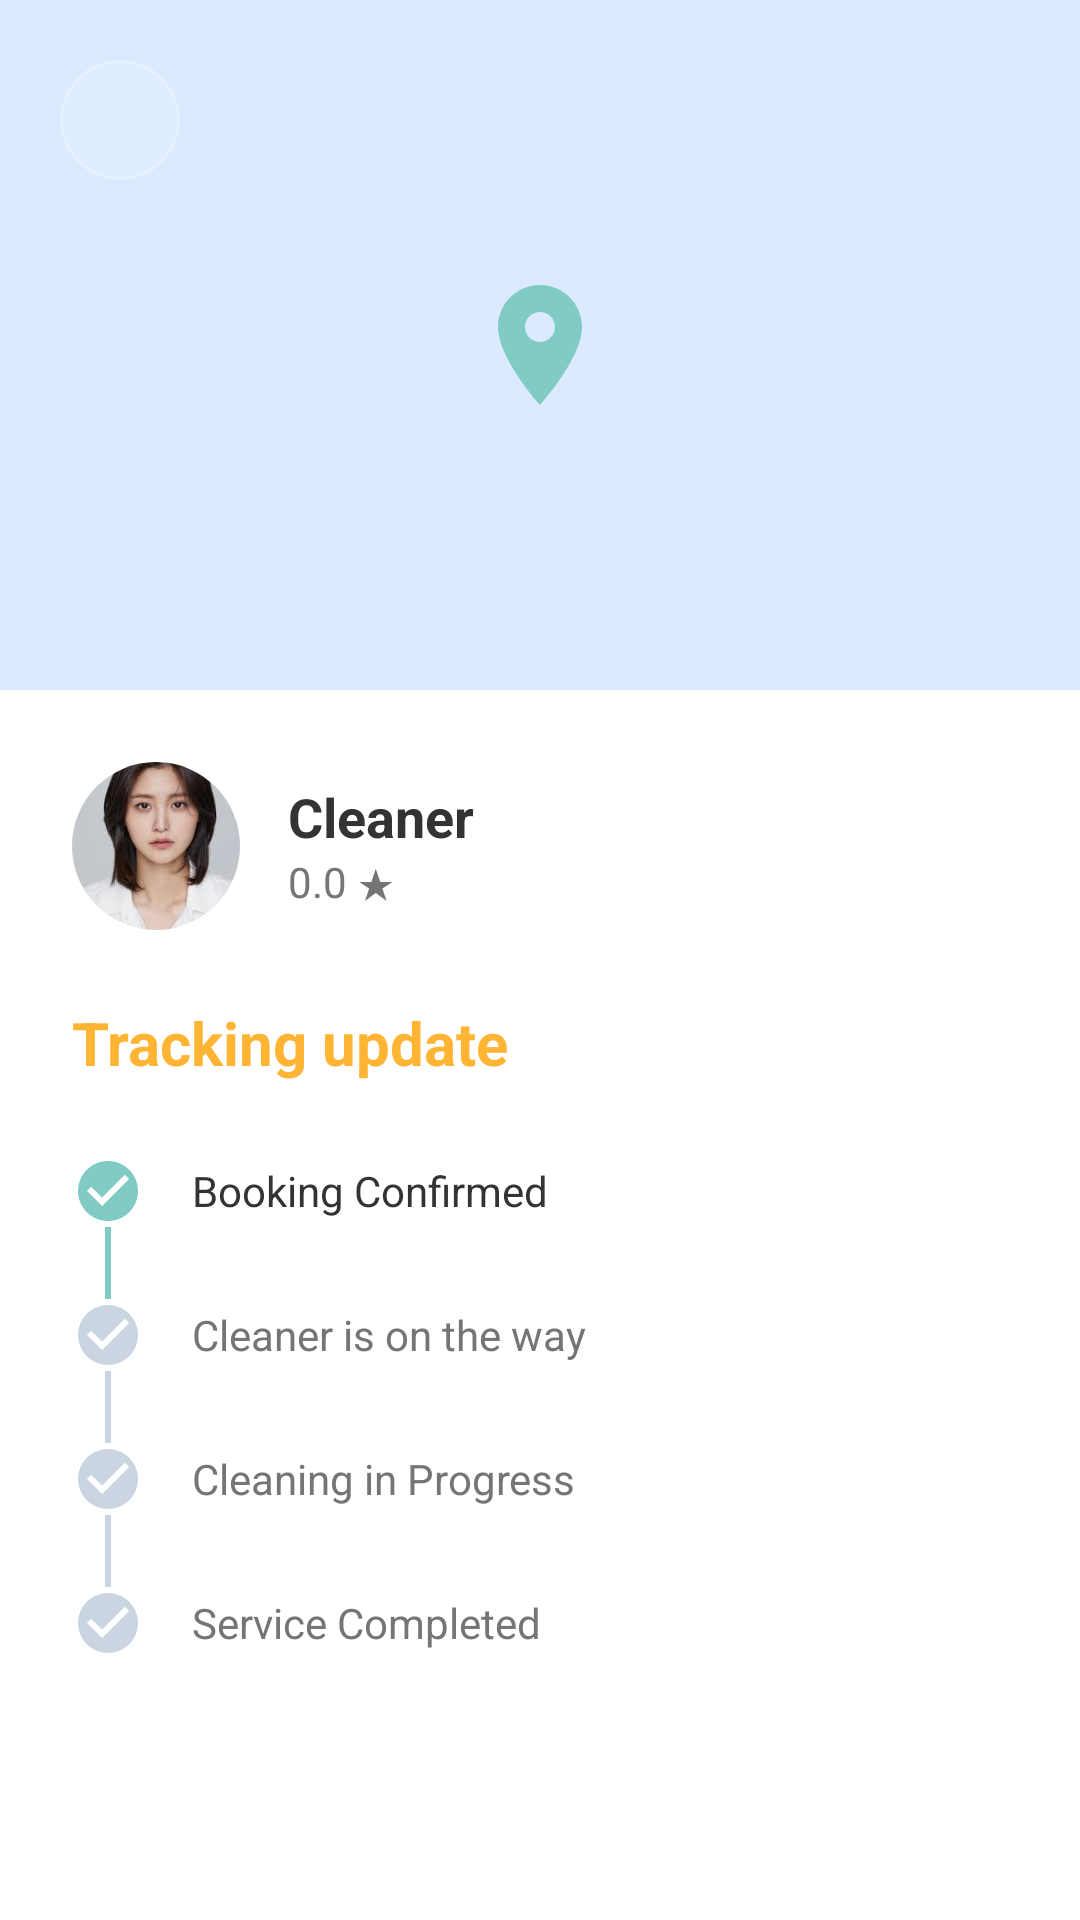

Named icons in this screenshot (1080*1920) and their centers, (x,y):
check circle: (108,1191), (108,1335), (108,1479), (108,1623)
location: (540,345)
